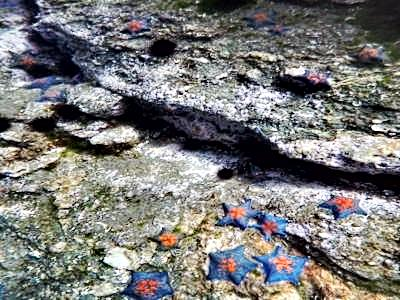urchin: (152, 38, 177, 57), (27, 117, 55, 131), (56, 103, 79, 119), (219, 167, 231, 179)
